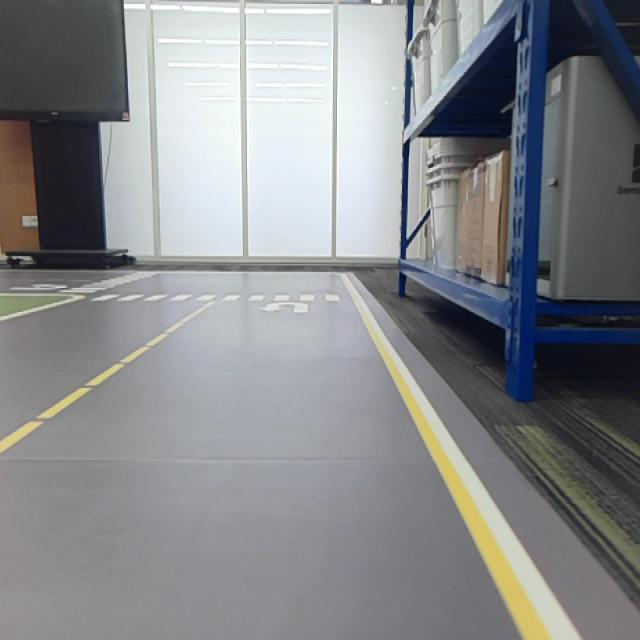left_lane: (0, 302, 211, 457)
right_lane: (341, 274, 557, 640), (0, 298, 75, 324)
